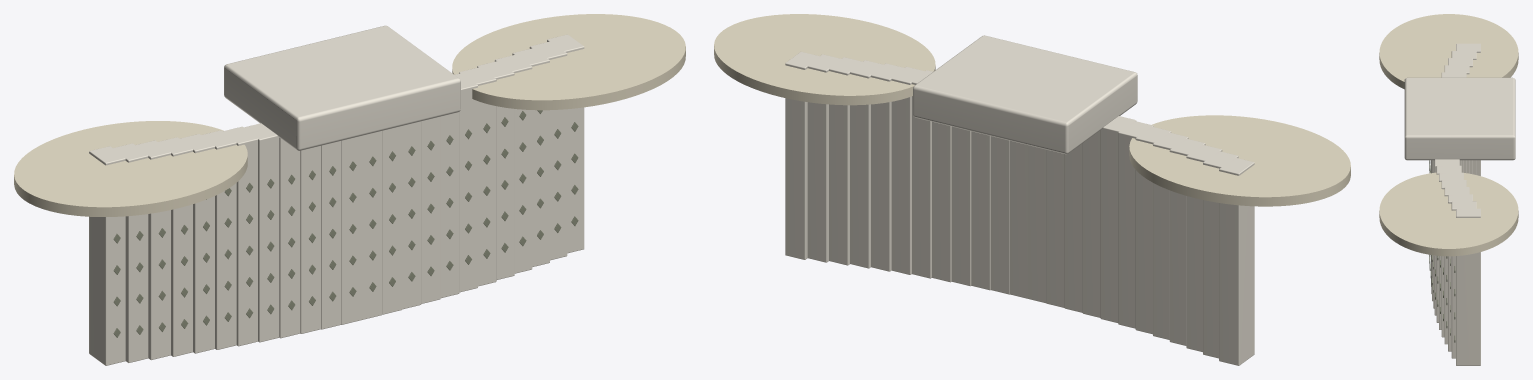
The model's file is wh-coffee-bar-station.glb.
The picture shows the model from 3 angles, left to right: view 1: azimuth 30°, elevation 25°; view 2: azimuth 150°, elevation 25°; view 3: azimuth 270°, elevation 25°; orthographic projection. The views are drawn at different scales.
Visible parts, largest first — view 1: Counter front panel.024, Curved counter wing.002, Front decorative inlay.120; view 2: Counter front panel.024, Curved counter wing.002; view 3: Counter front panel.024, Curved counter wing.002, Front decorative inlay.120.
Boxes of the visible parts, x1=… form: Counter front panel.024: x1=89, y1=25, x2=584, y2=365; Curved counter wing.002: x1=14, y1=14, x2=685, y2=216; Front decorative inlay.120: x1=113, y1=110, x2=578, y2=337; Counter front panel.024: x1=785, y1=35, x2=1254, y2=365; Curved counter wing.002: x1=714, y1=14, x2=1350, y2=206; Counter front panel.024: x1=1404, y1=43, x2=1515, y2=365; Curved counter wing.002: x1=1379, y1=14, x2=1518, y2=256; Front decorative inlay.120: x1=1429, y1=160, x2=1455, y2=342.
Bounding box in the file's own units: 3.2 × 1.1 × 0.8.
